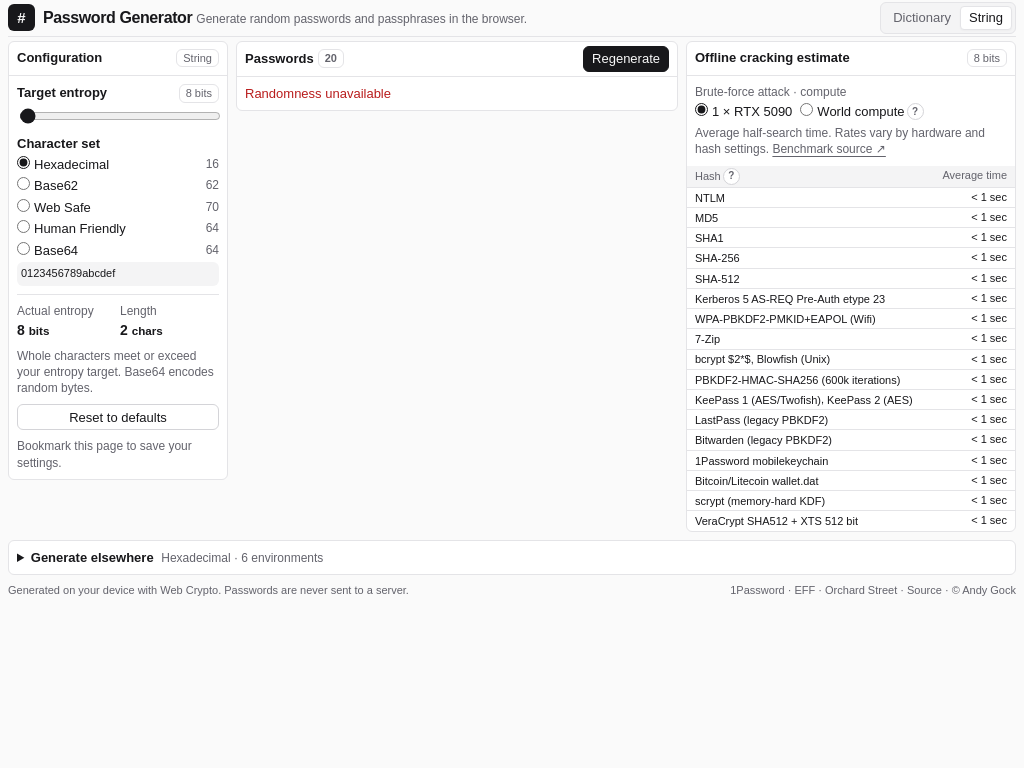
it: recovers generation after a crypto failure without showing stale passwords
This screenshot has width=1024, height=768.
expect the message "Randomness unavailable" is shown: met, box [245,86,391,100]
Click the button "Regenerate" at (626, 58), box [583,46,669,72]
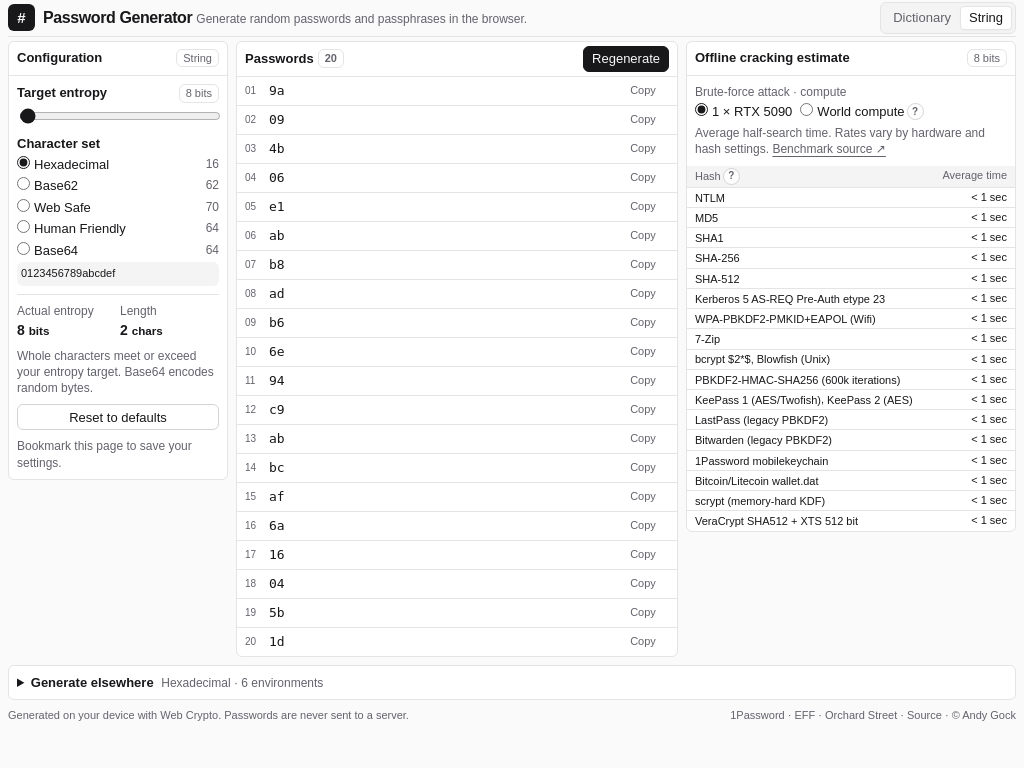
expect the message "Randomness unavailable" is gone: met
